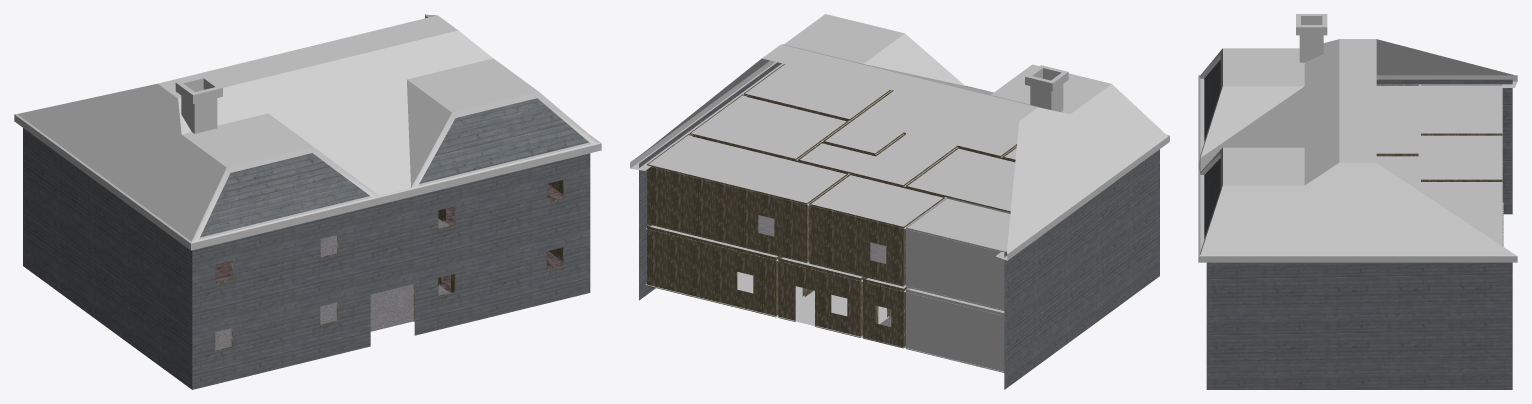
File: DOE Start House.fbx
3 renders of one model, left to right at view 1: azimuth 30°, elevation 25°; view 2: azimuth 150°, elevation 25°; view 3: azimuth 270°, elevation 25°, orthographic. The views are drawn at different scales.
Visible parts, largest first — view 1: Main_Exterior, Roof, Floor_1, Chimney, Floor_2, Walls_1; view 2: Top_Ceiling, Roof, Walls_2, Main_Exterior, Walls_1, Floor_1, Floor_2, Chimney; view 3: Roof, Main_Exterior, Top_Ceiling, Chimney, Walls_2.
Boxes of the visible parts, bbox=[...] form: Main_Exterior: bbox=[23, 128, 590, 389]; Roof: bbox=[14, 14, 601, 250]; Floor_1: bbox=[215, 251, 562, 350]; Chimney: bbox=[175, 75, 222, 133]; Floor_2: bbox=[215, 183, 563, 282]; Walls_1: bbox=[215, 247, 563, 351]; Top_Ceiling: bbox=[652, 65, 1018, 252]; Roof: bbox=[630, 14, 1169, 260]; Walls_2: bbox=[647, 64, 1016, 310]; Main_Exterior: bbox=[639, 62, 1159, 389]; Walls_1: bbox=[647, 224, 1004, 372]; Floor_1: bbox=[645, 272, 1003, 372]; Floor_2: bbox=[646, 215, 1004, 315]; Chimney: bbox=[1025, 65, 1068, 111]; Roof: bbox=[1198, 39, 1517, 262]; Main_Exterior: bbox=[1206, 79, 1512, 389]; Top_Ceiling: bbox=[1376, 88, 1502, 245]; Chimney: bbox=[1296, 14, 1327, 62]; Walls_2: bbox=[1376, 84, 1502, 181].
Bounding box in the file's own units: 38.6 × 22.11 × 28.77.
